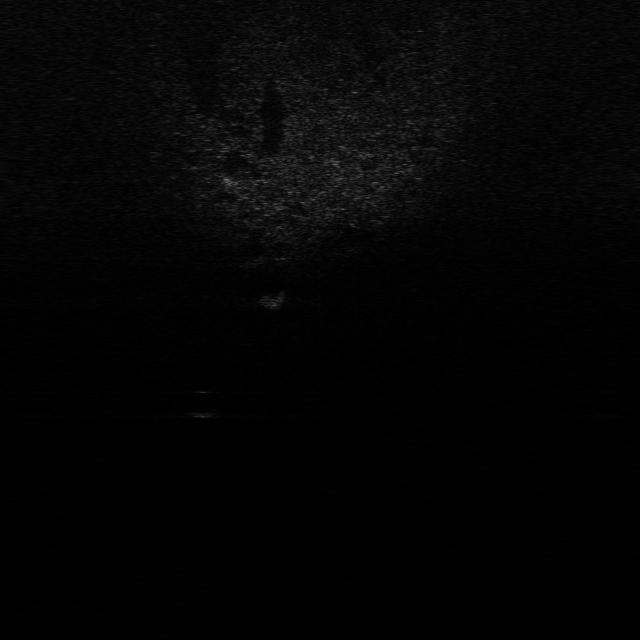ball: (180, 386, 226, 421)
cube: (256, 286, 292, 312)
